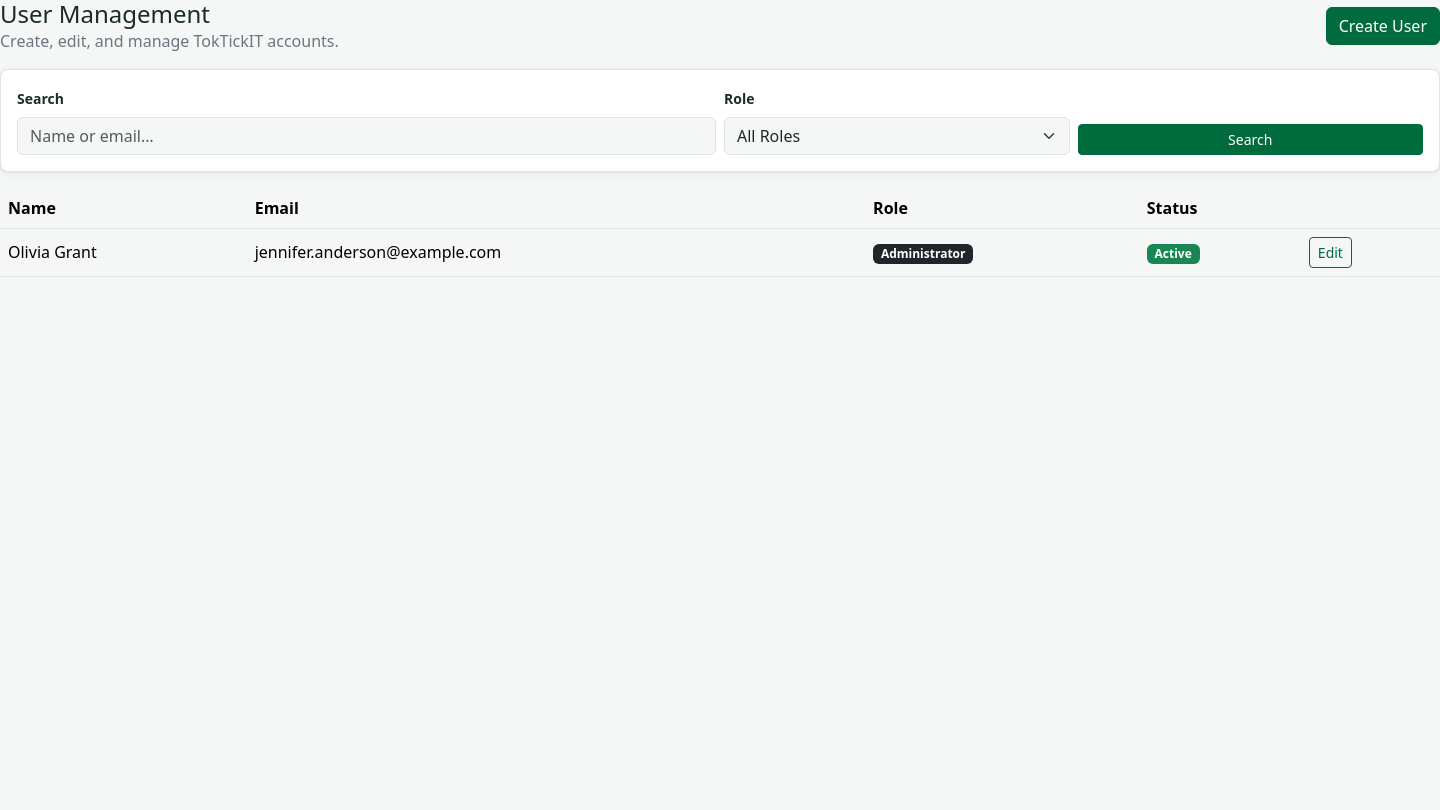
Test: UserManagement › disables the Active toggle and shows a hint when the Administrator edits their own account (BR-25 UI hint)
The image size is (1440, 810).
Click the button "Edit" at (1330, 252), box [1309,237,1352,268]
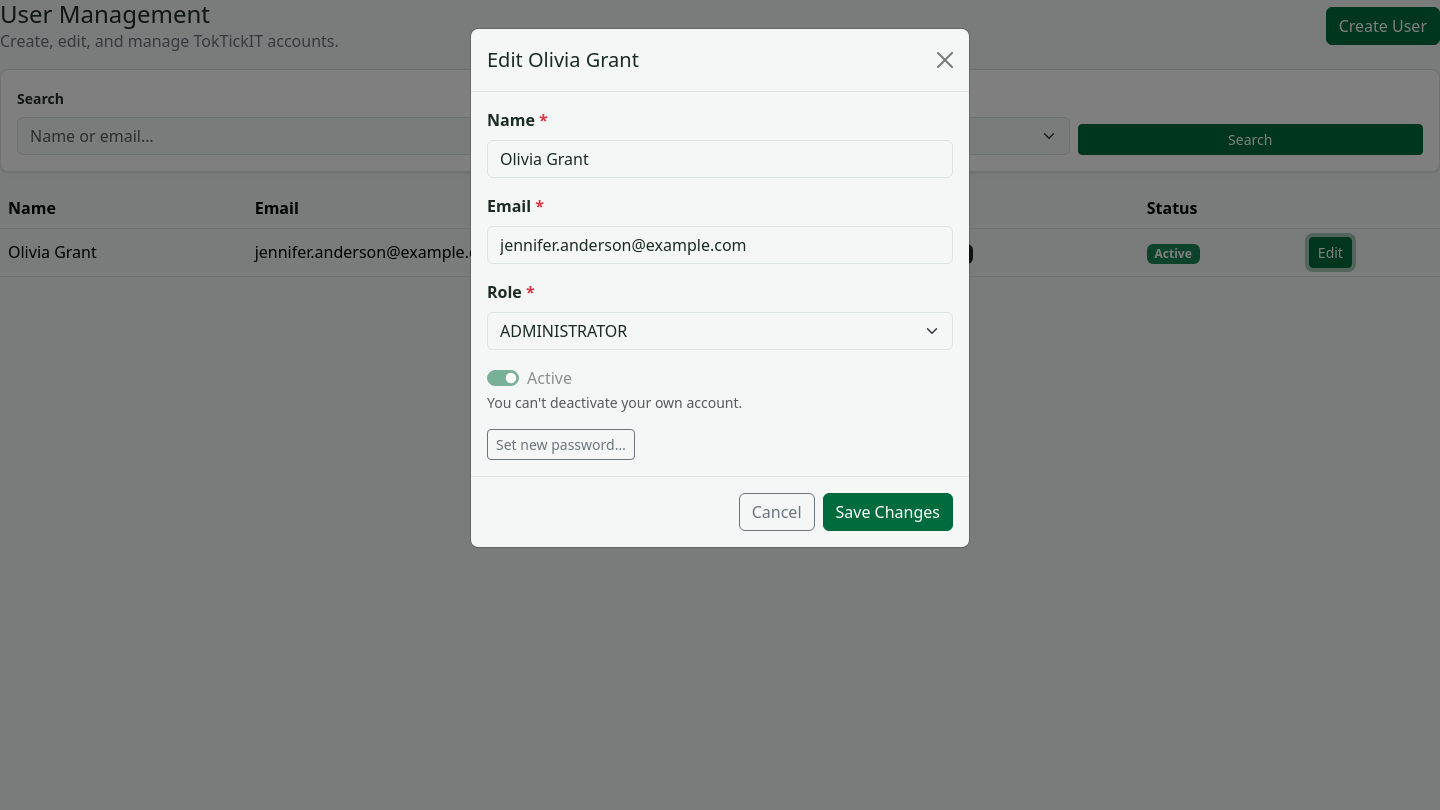
Result: the checkbox labelled "Active" is disabled at [487,370,519,386]
Result: the text "You can't deactivate your own account." is shown at [487,393,742,412]
